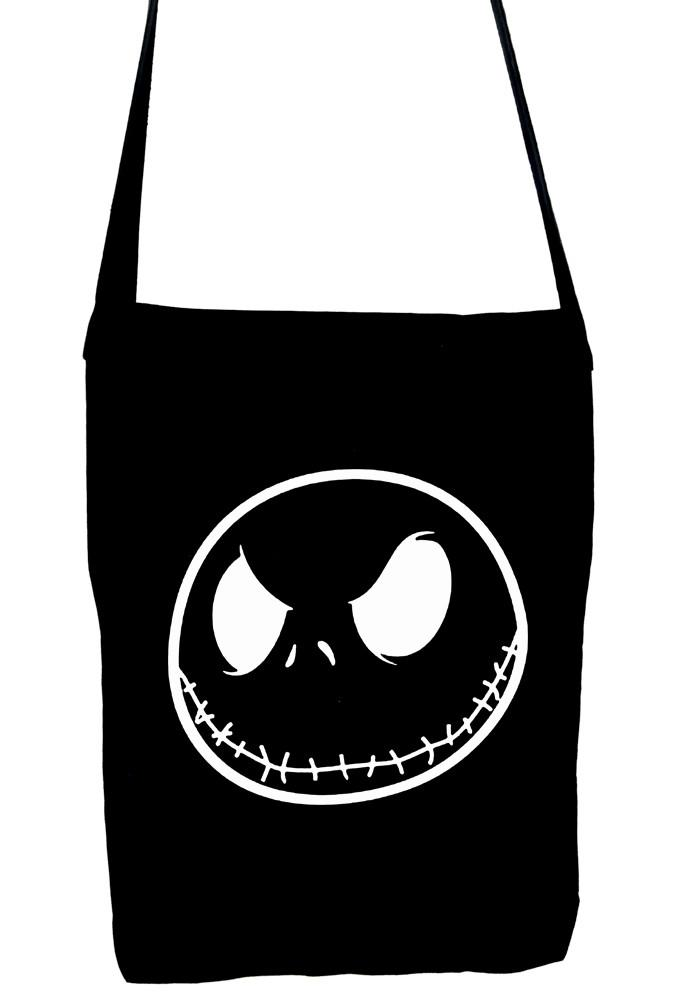Jack Skellington: (164, 466, 534, 810)
